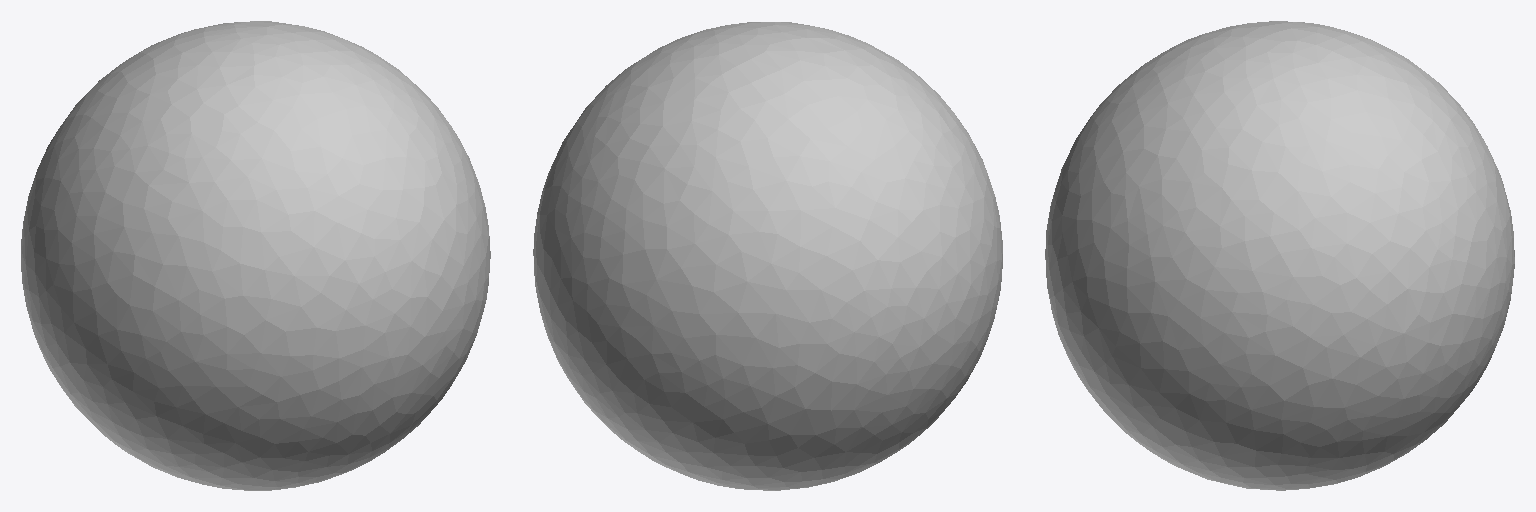
File: planet_sea.obj
3 renders of one model, left to right at view 1: azimuth 30°, elevation 25°; view 2: azimuth 150°, elevation 25°; view 3: azimuth 270°, elevation 25°, orthographic.
Size of the model in its own units: 281 by 281 by 281.